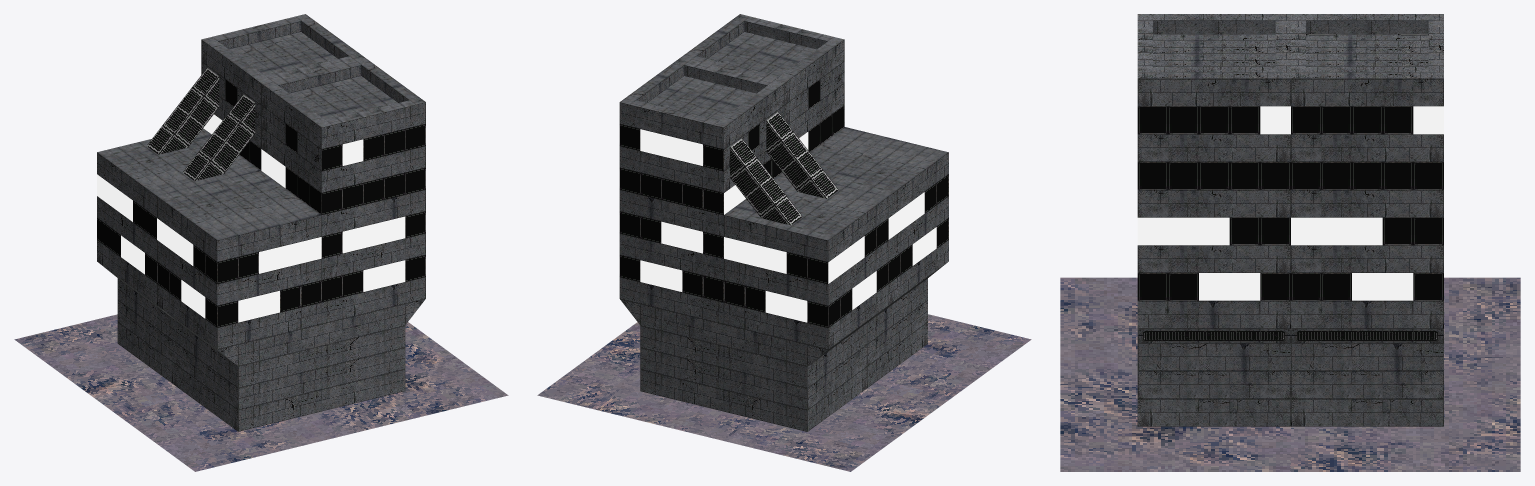
File: Wall.gltf
3 views of the same model, side by side, from view 1: azimuth 30°, elevation 25°; view 2: azimuth 150°, elevation 25°; view 3: azimuth 270°, elevation 25° (orthographic). The views are drawn at different scales.
Visible parts, largest first — view 1: Cube_005, ground1; view 2: Cube_005, ground1; view 3: Cube_005, ground1.
Boxes of the visible parts, left/top/right/bottom form: Cube_005: left=97, top=14, right=425, bottom=431; ground1: left=14, top=314, right=508, bottom=471; Cube_005: left=619, top=14, right=948, bottom=431; ground1: left=537, top=314, right=1031, bottom=471; Cube_005: left=1137, top=14, right=1443, bottom=426; ground1: left=1060, top=277, right=1520, bottom=471.
Size of the model in its own units: 3.05 by 2.64 by 3.05.
Materials: 3 (2 with a texture image).
